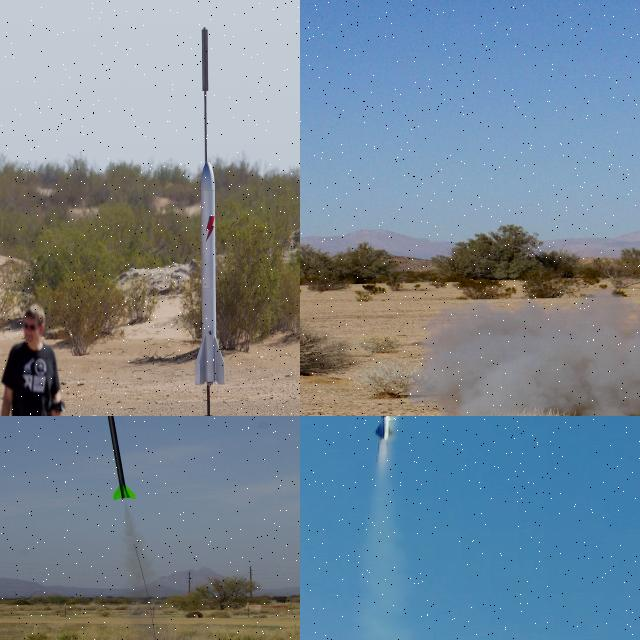Rocket: (194, 159, 228, 392), (106, 416, 137, 500)
